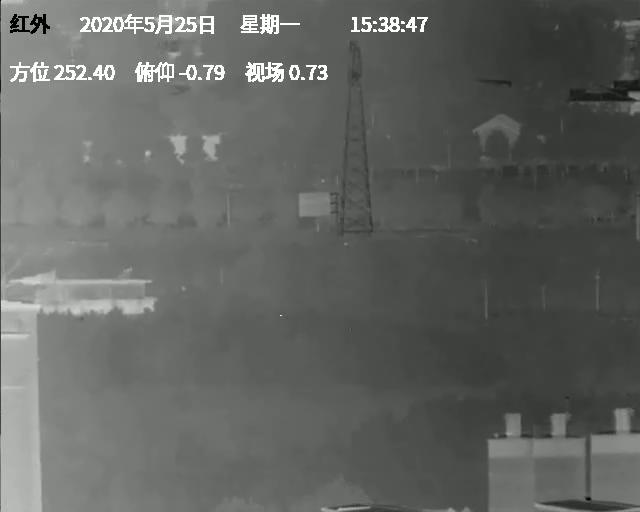uav: (343, 241, 349, 248)
